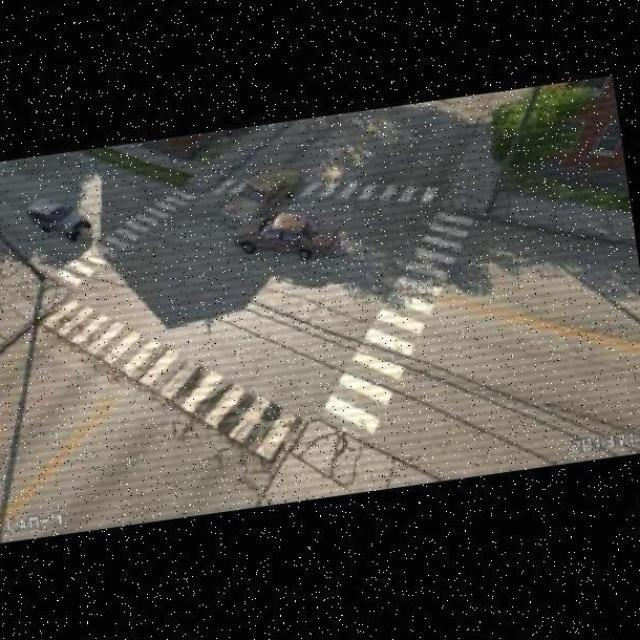accident: (221, 175, 305, 257)
